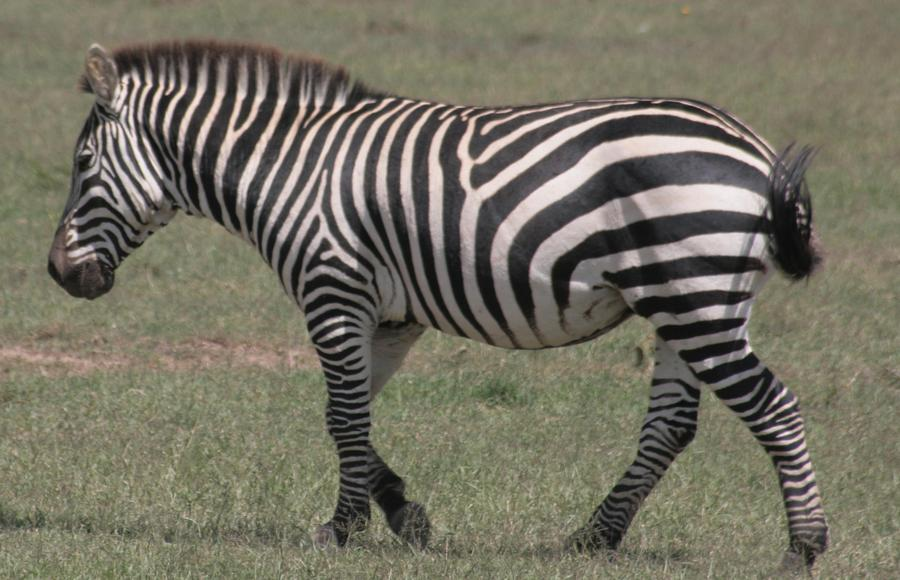zebra_plains: (272, 88, 764, 360)
